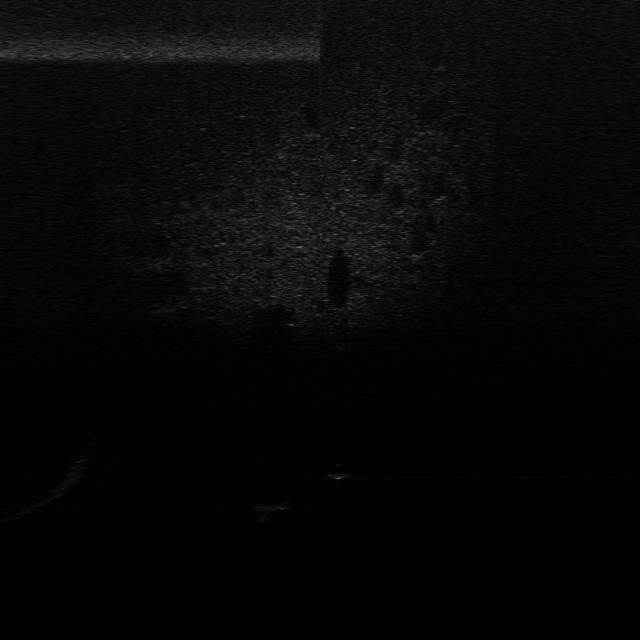ball: (324, 460, 354, 482)
square cage: (252, 496, 297, 524)
